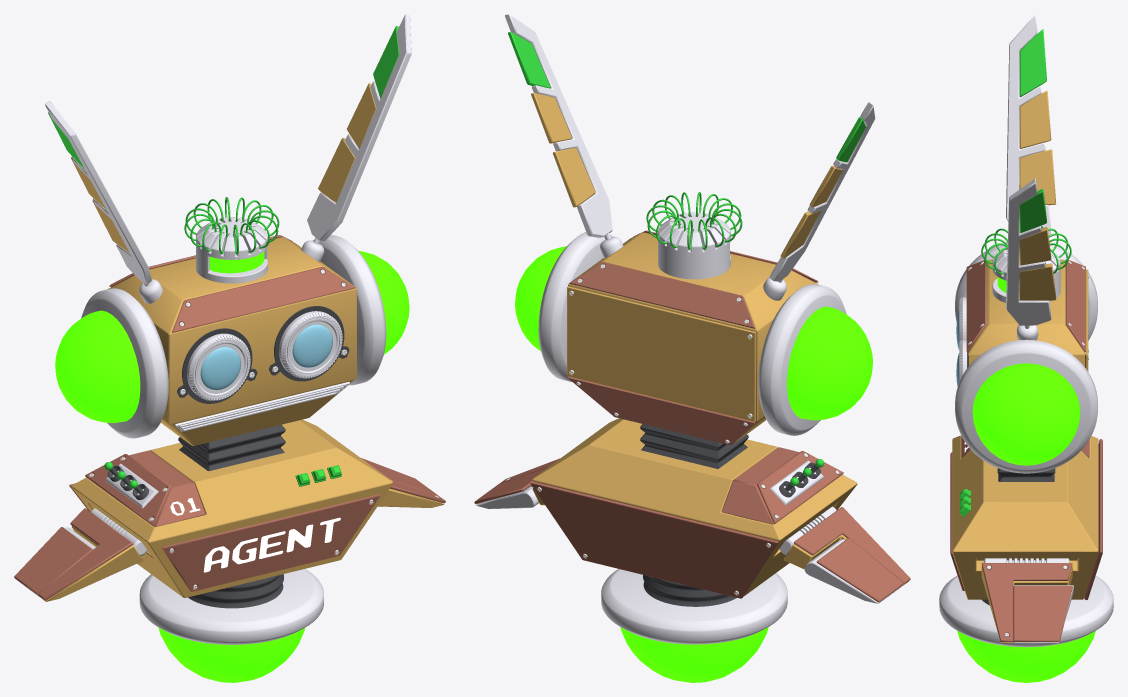
Rendered from bee_bot3_brown.glb.
3 renders of one model, left to right at view 1: azimuth 30°, elevation 25°; view 2: azimuth 150°, elevation 25°; view 3: azimuth 270°, elevation 25°, orthographic. The views are drawn at different scales.
Parts seen in each view (by area): view 1: Cube.026; view 2: Cube.026; view 3: Cube.026.
Boxes of the visible parts, bbox=[...] form: Cube.026: bbox=[14, 14, 445, 682]; Cube.026: bbox=[474, 14, 910, 682]; Cube.026: bbox=[939, 14, 1113, 682].
Size of the model in its own units: 0.6986 by 1.02 by 0.278.
